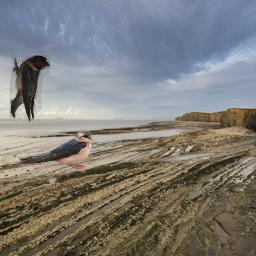Swallow: (17, 129, 93, 170), (9, 55, 50, 122)
